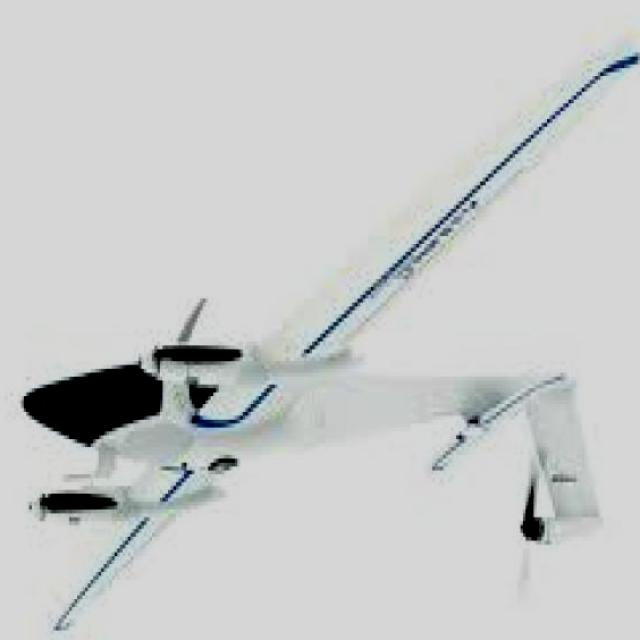plane: (20, 50, 640, 640)
